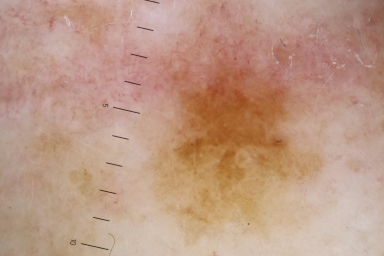melanoma: (156, 76, 316, 233)
